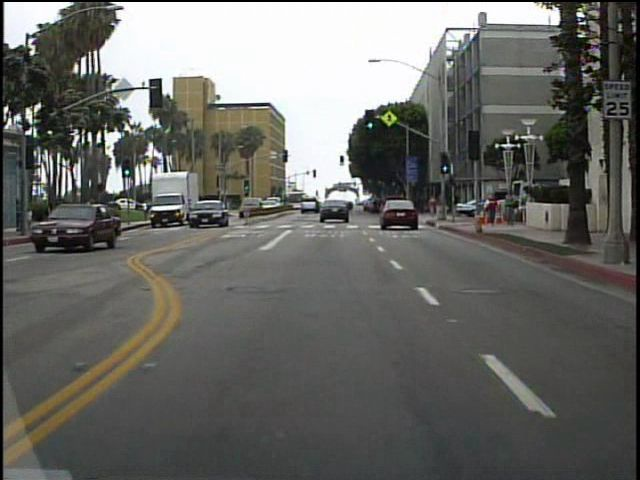person: (80, 194, 98, 237), (424, 193, 440, 218)
